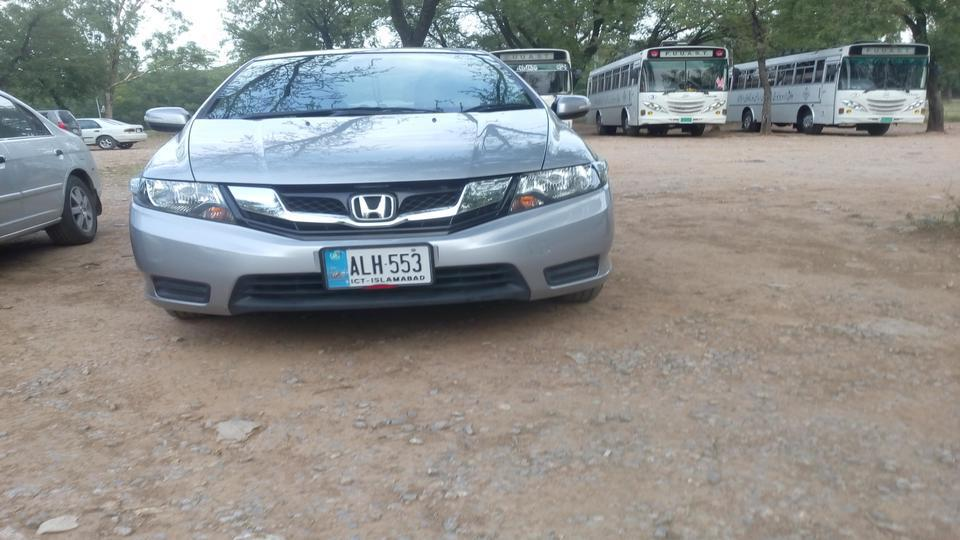NumberPlate: (323, 250, 437, 288)
